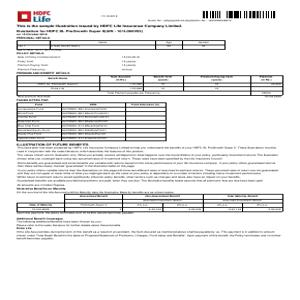image: (15, 8, 55, 22)
table: (16, 193, 284, 214), (17, 74, 284, 95), (16, 40, 226, 49)
text: (16, 142, 281, 192), (17, 102, 167, 142), (15, 227, 284, 241), (16, 51, 145, 74), (16, 28, 147, 39), (16, 215, 122, 227), (16, 23, 184, 28), (17, 97, 50, 101)
